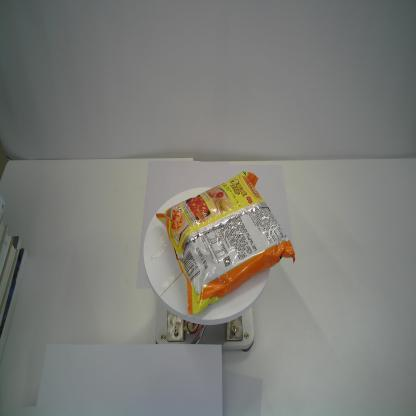Instant Noodles: (156, 172, 296, 314)
